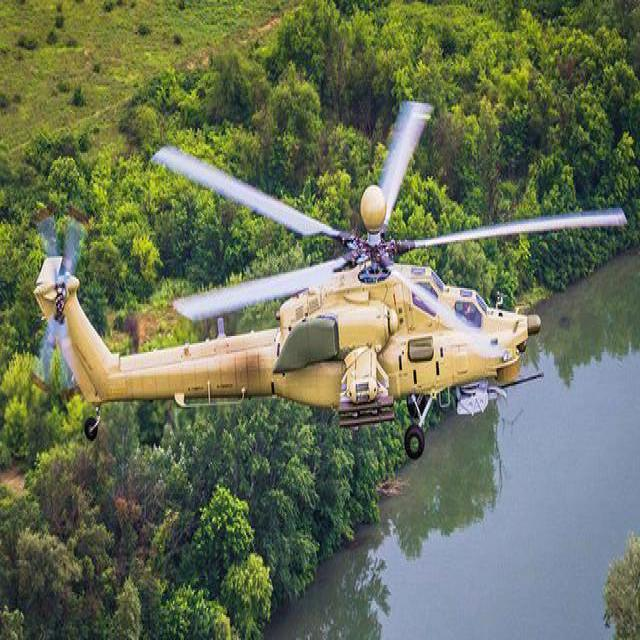MIL_HELO: (19, 94, 640, 466)
